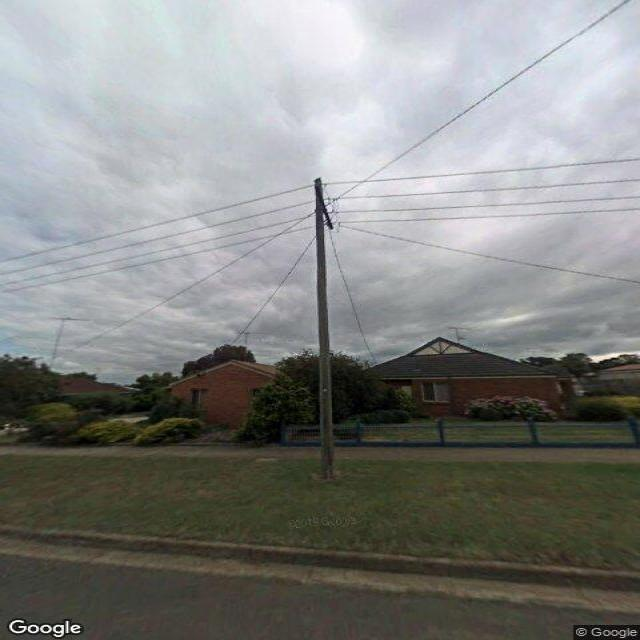crossarm: (314, 178, 334, 230)
mid mount suitable pole: (313, 177, 338, 482)
timber-pole: (312, 179, 336, 483)
